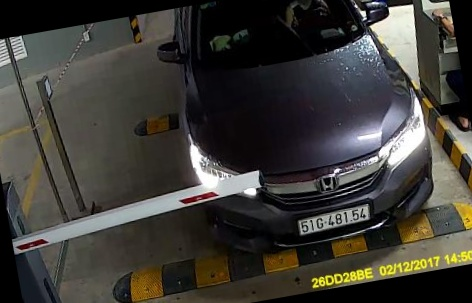plate: (293, 195, 371, 246)
